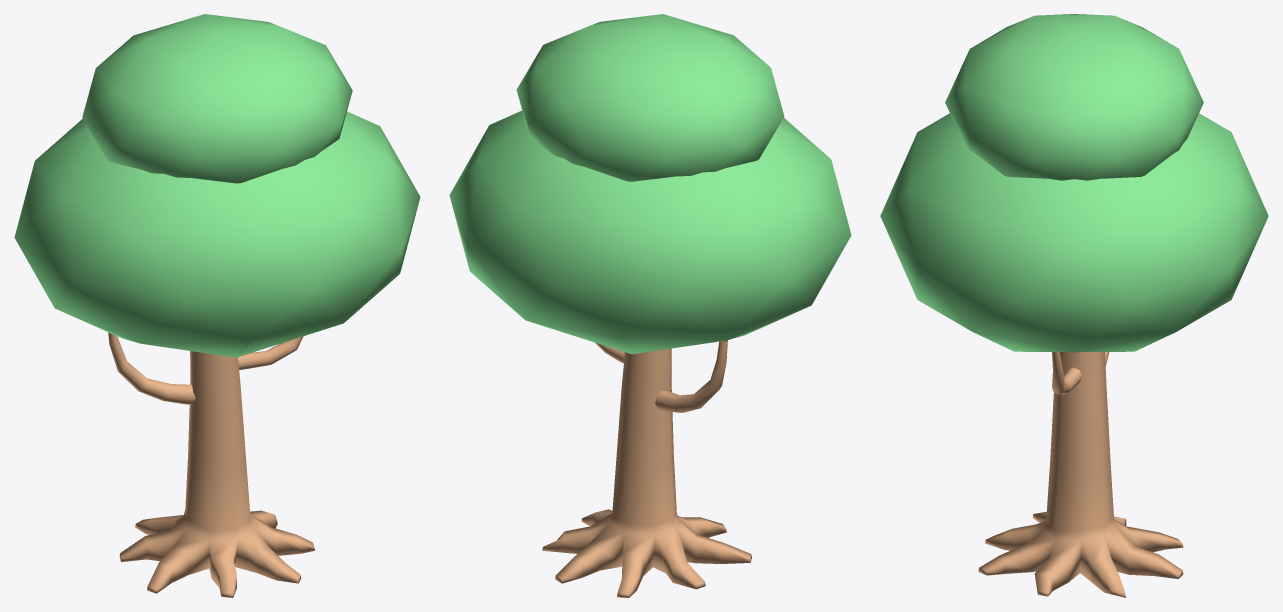
File: Pohon_13.fbx
3 renders of one model, left to right at view 1: azimuth 30°, elevation 25°; view 2: azimuth 150°, elevation 25°; view 3: azimuth 270°, elevation 25°, orthographic.
Parts seen in each view (by area): view 1: Circle.059; view 2: Circle.059; view 3: Circle.059.
Boxes of the visible parts, x1,y1,x2,y2 form: Circle.059: (14,14,420,597); Circle.059: (449,14,851,597); Circle.059: (880,14,1268,597).
Size of the model in its own units: 2201 by 3201 by 2135.
